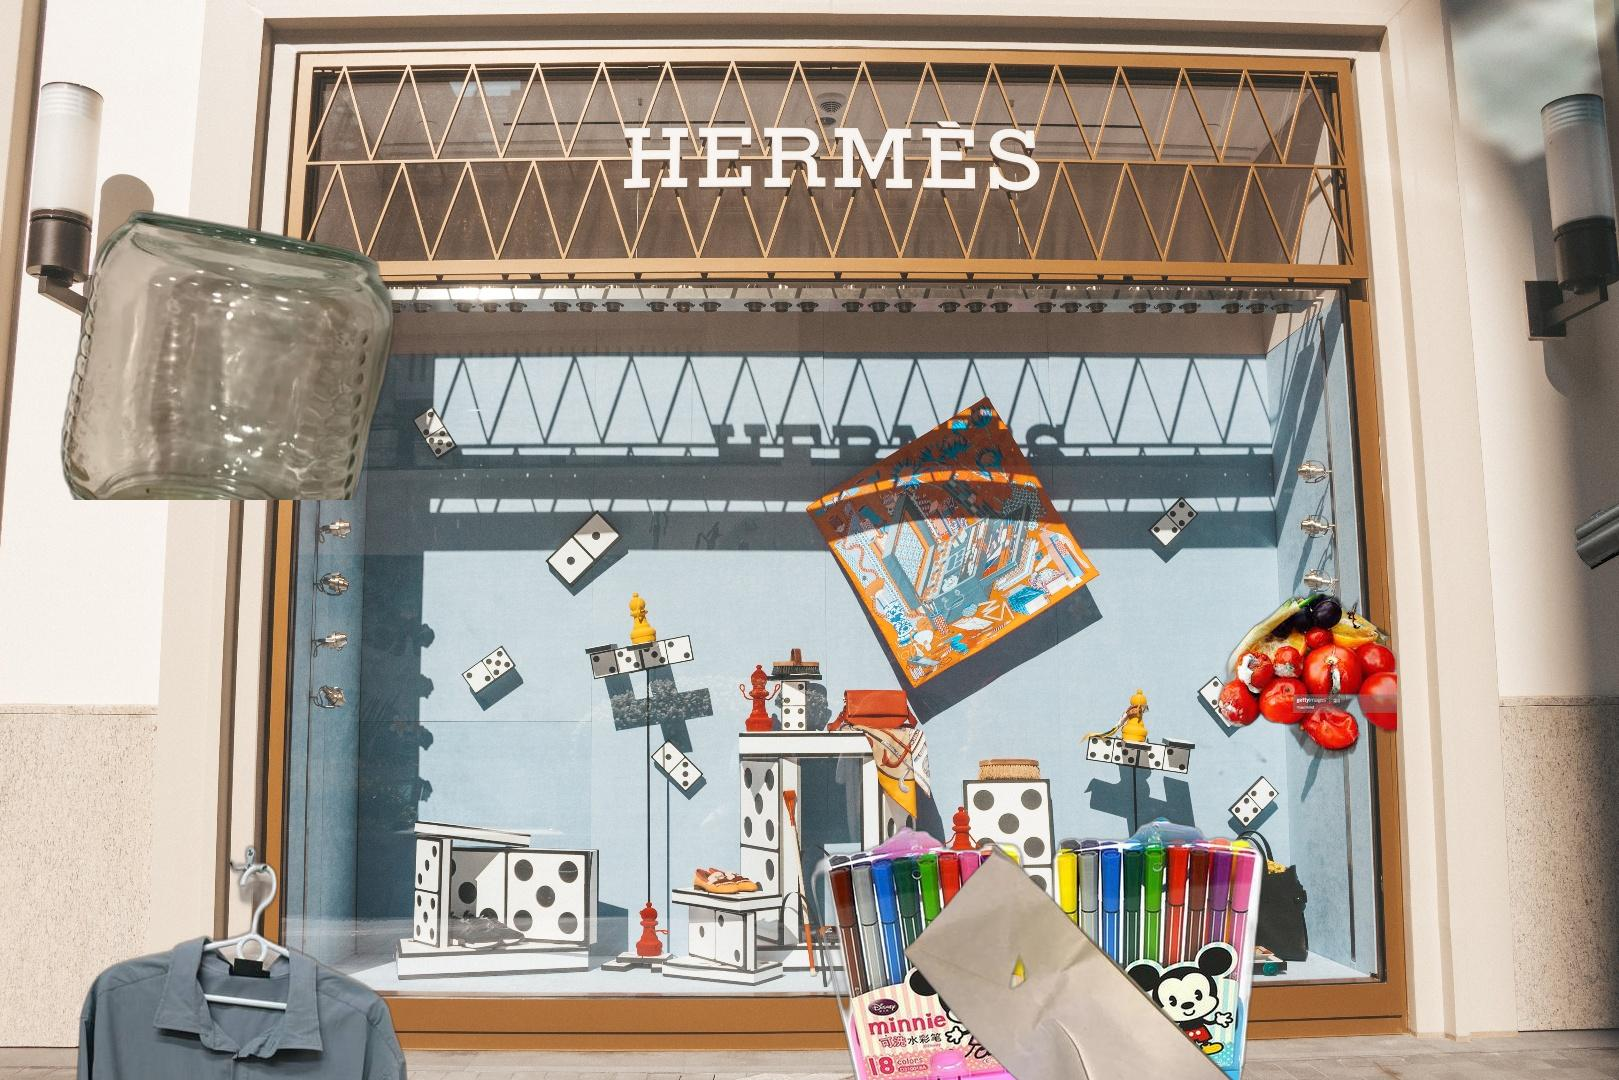battery: (1574, 413, 1619, 573)
biological: (1215, 589, 1397, 762)
clothes: (58, 841, 421, 1080)
glass: (57, 207, 404, 500)
metal-cans: (1506, 852, 1619, 1019)
paper: (899, 843, 1253, 1080)
penholder: (806, 812, 1268, 1080)
trashbox-cardboard: (1489, 1053, 1619, 1080)
